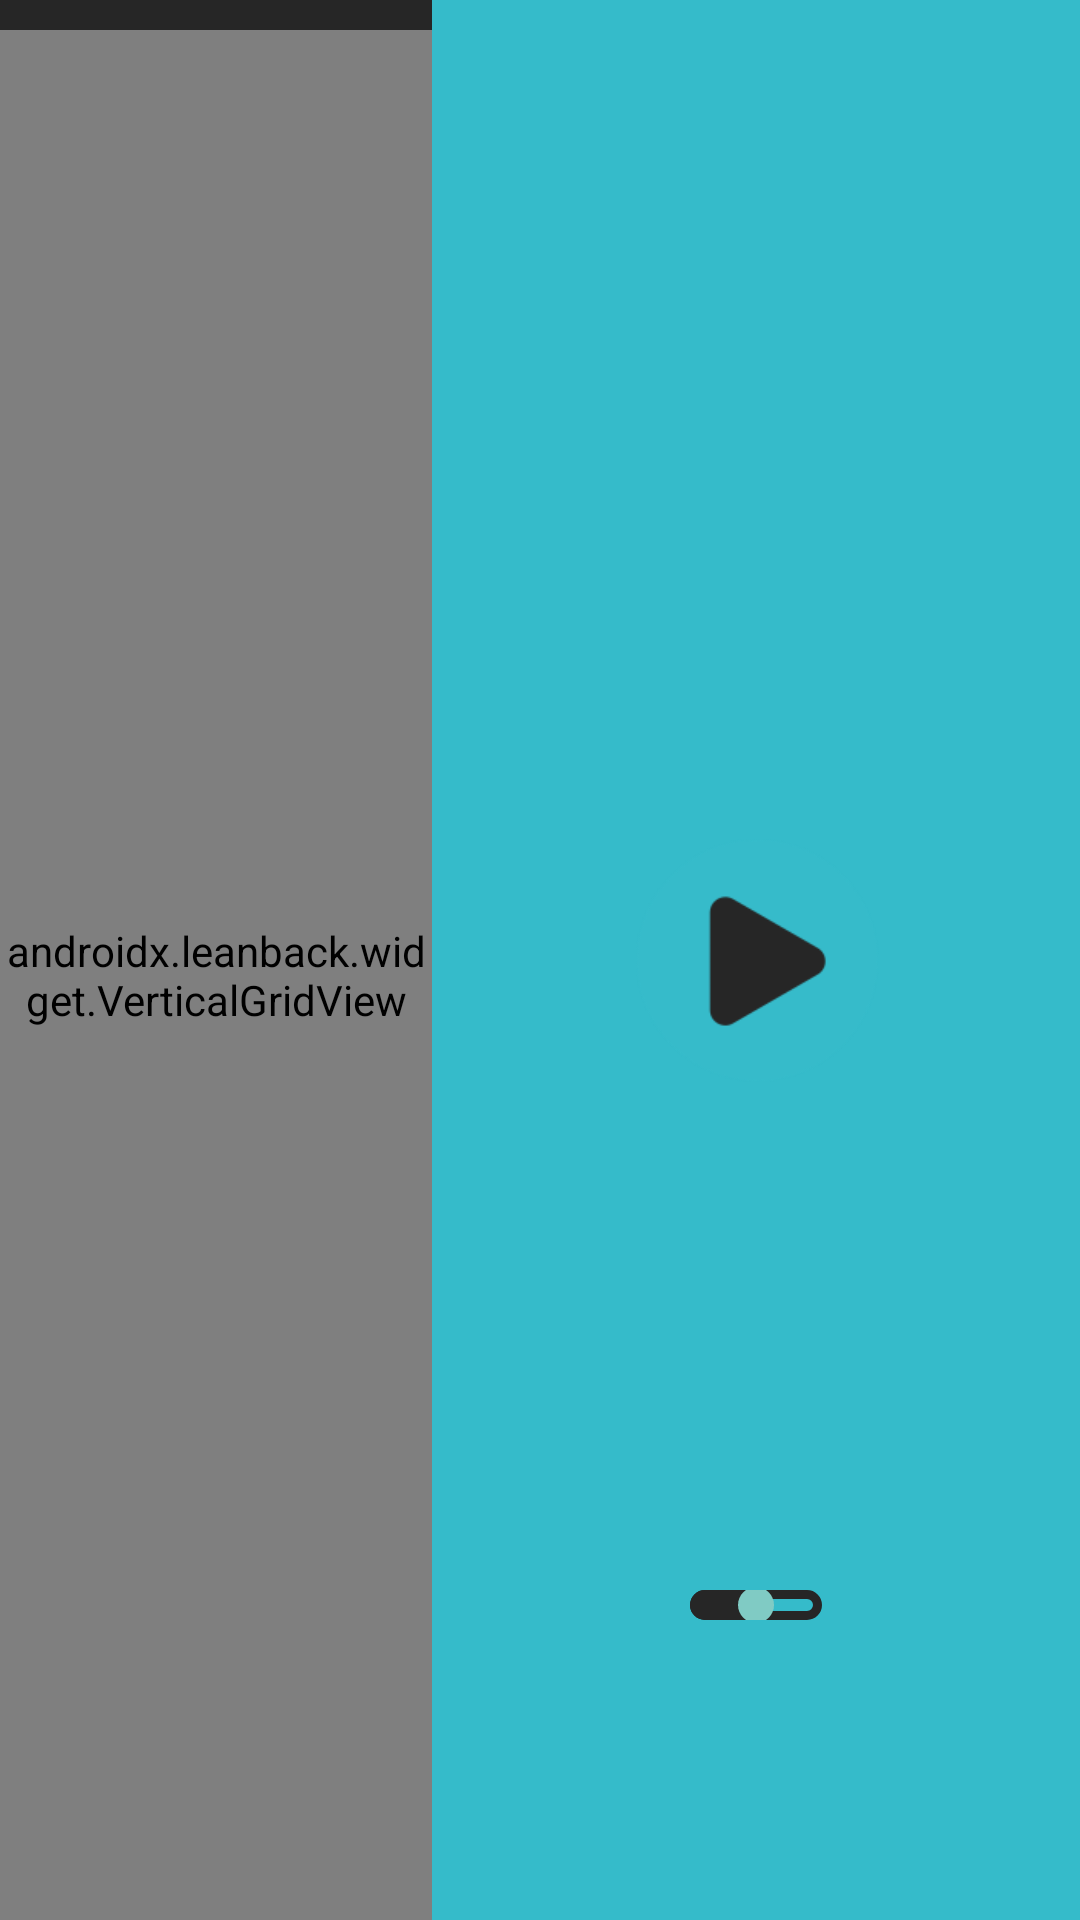

Screen size 1080*1920. Icon name, then its box in pixels as detection(x1, y1, x2, y2):
play: detection(709, 896, 826, 1026)
